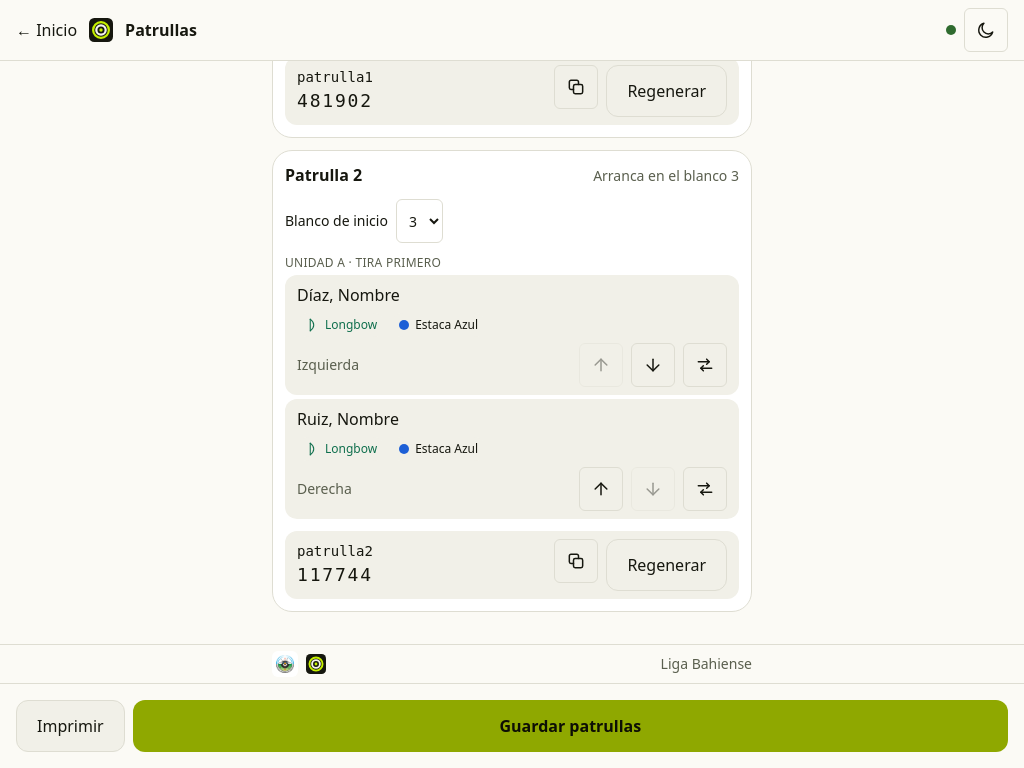
edición manual › NO deja guardar una patrulla de más de 4: el servidor la rechazaría
(page scrolled)
Click the button named "Mover a Díaz a otra patrulla": [705, 365] box top-left (683, 343), bottom-right (727, 387)
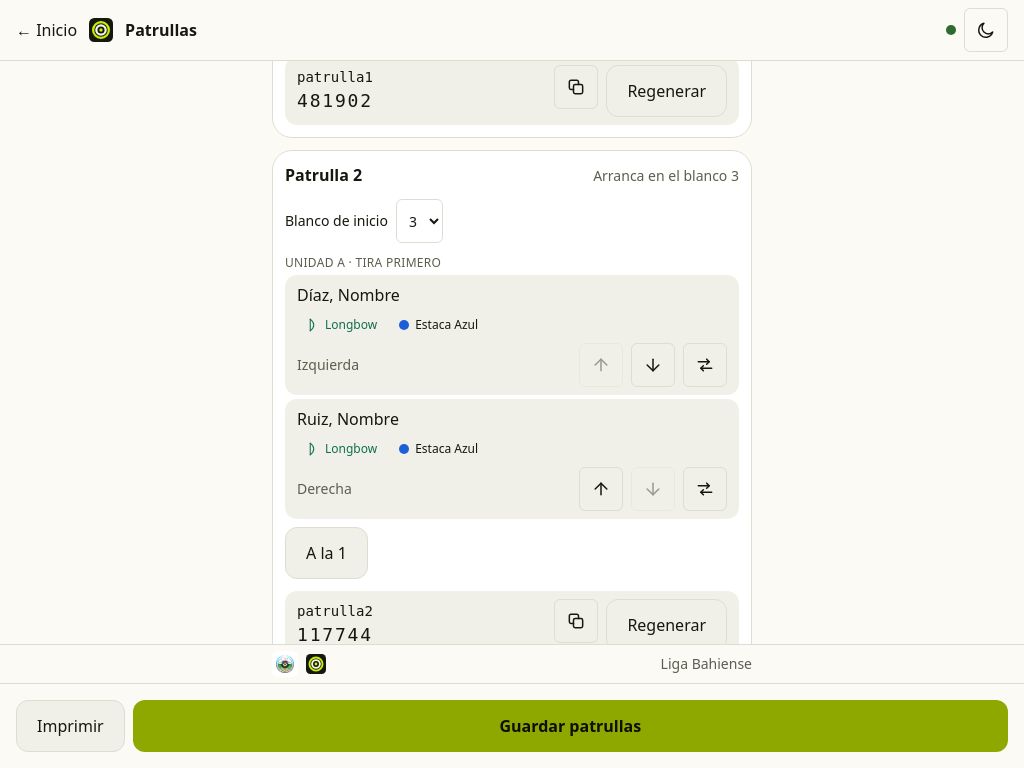
Click the button "A la 1": [326, 553] box top-left (285, 527), bottom-right (368, 579)
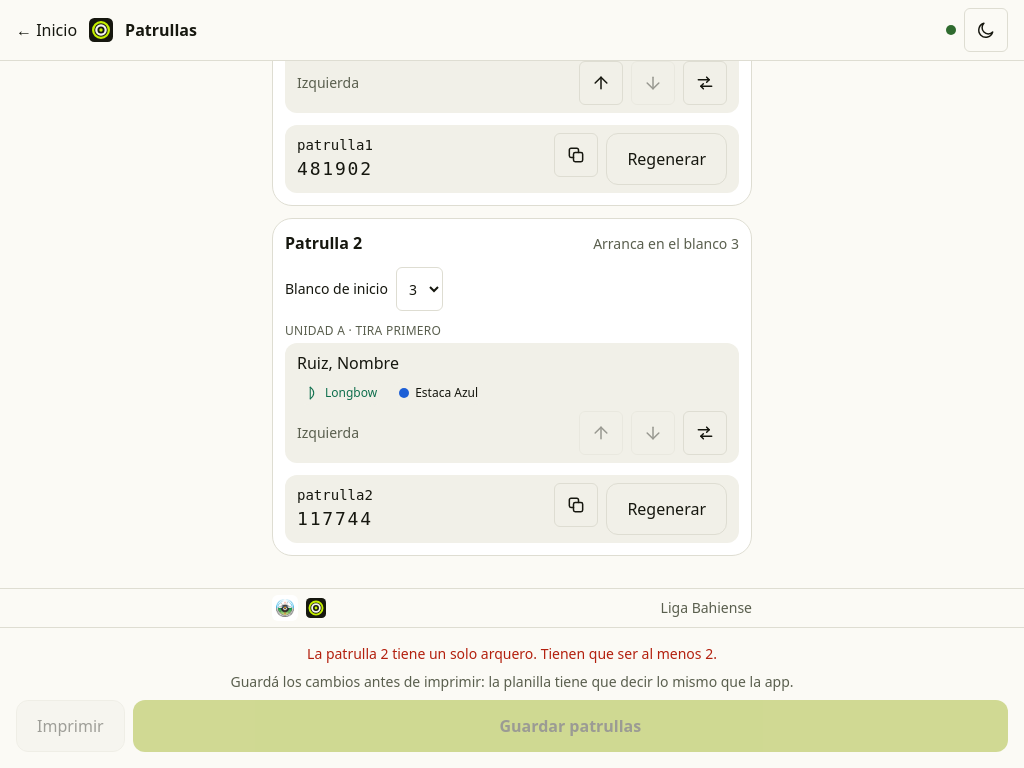
Click the button named "Mover a Ruiz a otra patrulla": [705, 433] box top-left (683, 411), bottom-right (727, 455)
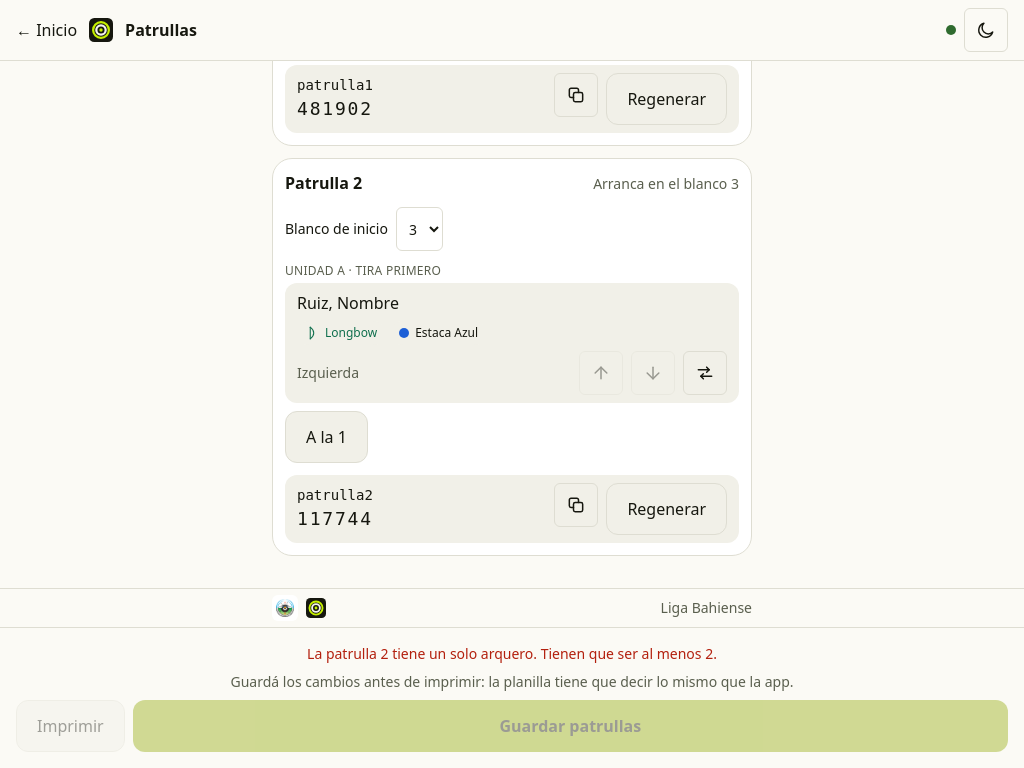
Click the button "A la 1": [326, 437] box top-left (285, 411), bottom-right (368, 463)
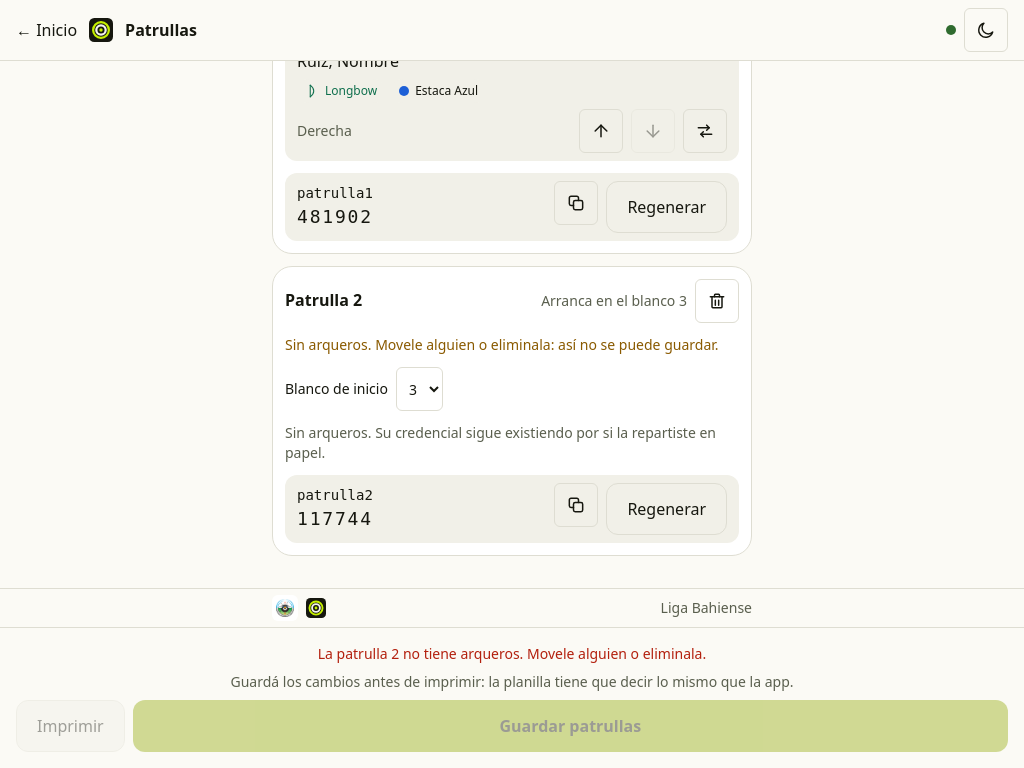
Now the text with test id "patrulla-vacia" is shown, box top-left (285, 335), bottom-right (739, 355)
Click the button named "Eliminar la patrulla 2": [717, 301] box top-left (695, 279), bottom-right (739, 323)
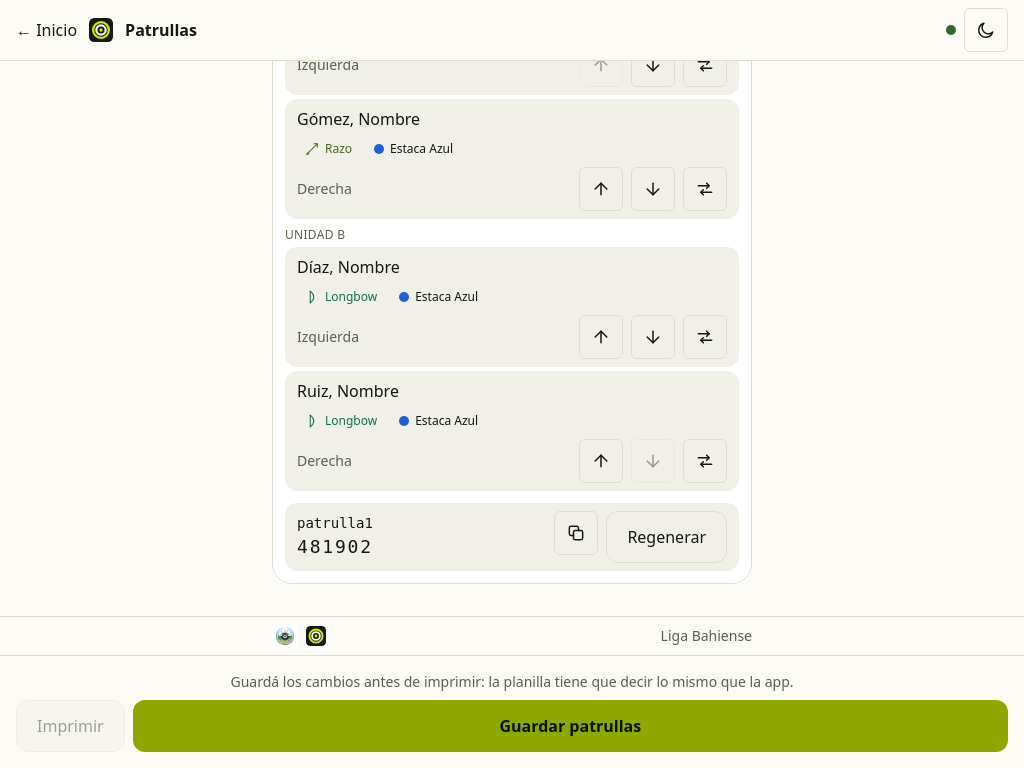
Now the button "Guardar patrullas" is enabled, box top-left (133, 700), bottom-right (1008, 752)
